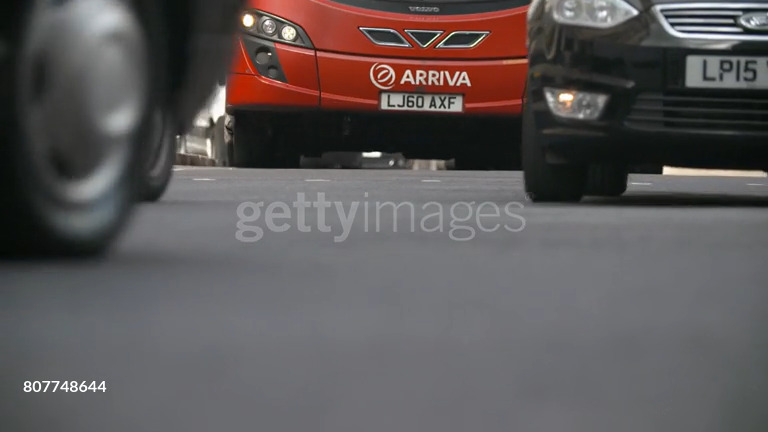car number: (684, 55, 766, 86), (378, 90, 464, 111)
